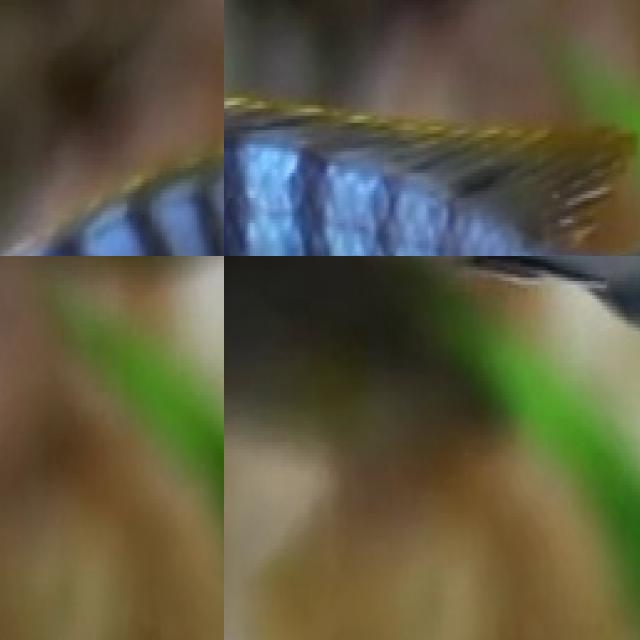fish: (0, 3, 224, 256), (279, 517, 640, 640)
